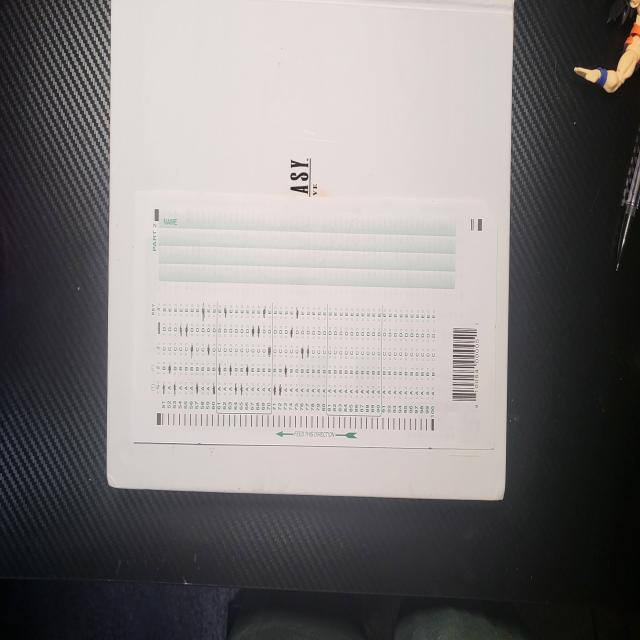scantron_back: (132, 189, 498, 449)
